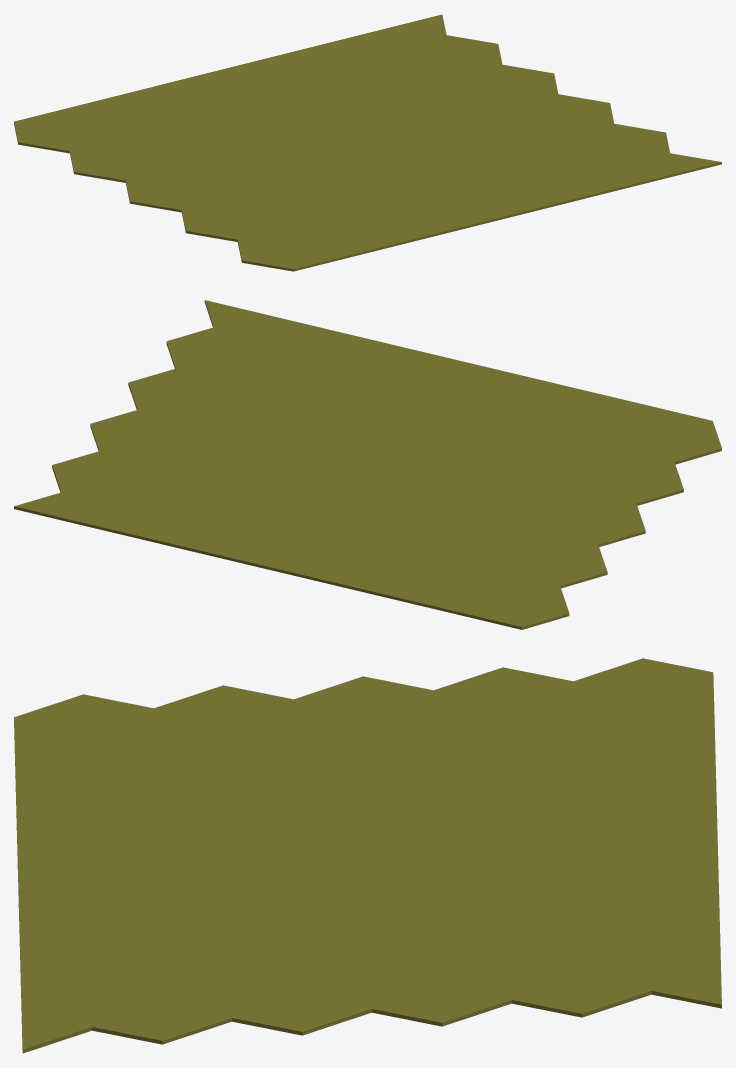
File: Carpet_5.fbx
3 views of the same model, one above another, from view 1: azimuth 30°, elevation 25°; view 2: azimuth 150°, elevation 25°; view 3: azimuth 270°, elevation 25° (orthographic). The views are drawn at different scales.
Parts seen in each view (by area): view 1: Carpet_5; view 2: Carpet_5; view 3: Carpet_5.
Part boxes in pixels (<box>): Carpet_5: <box>14,14,721,271</box>; Carpet_5: <box>14,300,721,629</box>; Carpet_5: <box>14,658,721,1053</box>.
Bounding box in the file's own units: 252 × 192 × 1.12.
